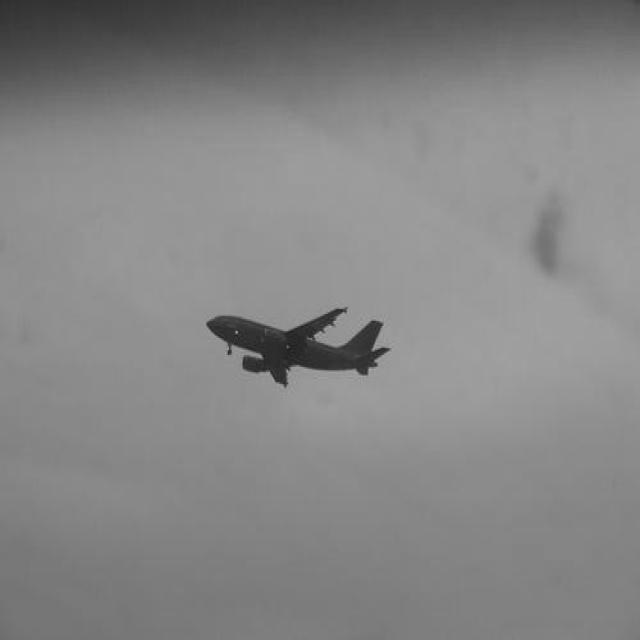aeroplane: (206, 308, 389, 388)
